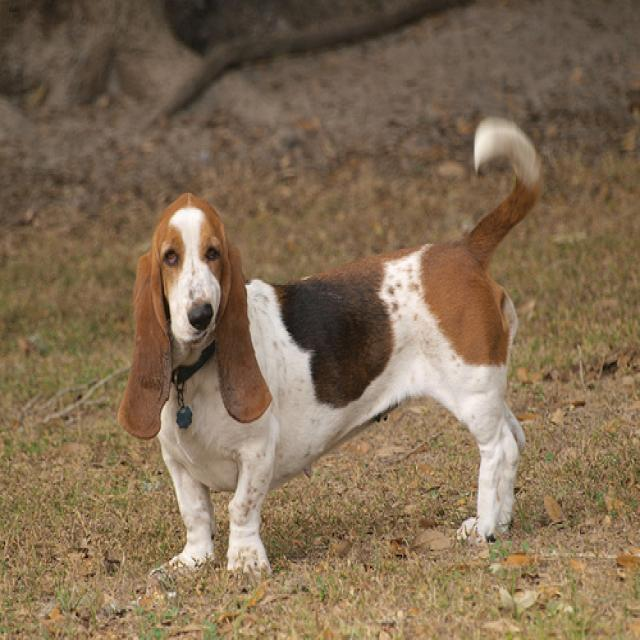dog-basset_hound: (114, 109, 556, 580)
